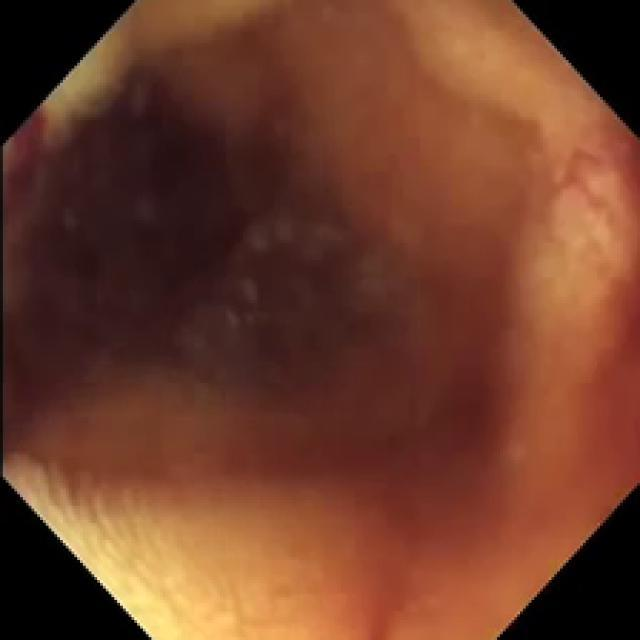bleeding: (274, 248, 639, 640), (0, 105, 90, 442)
